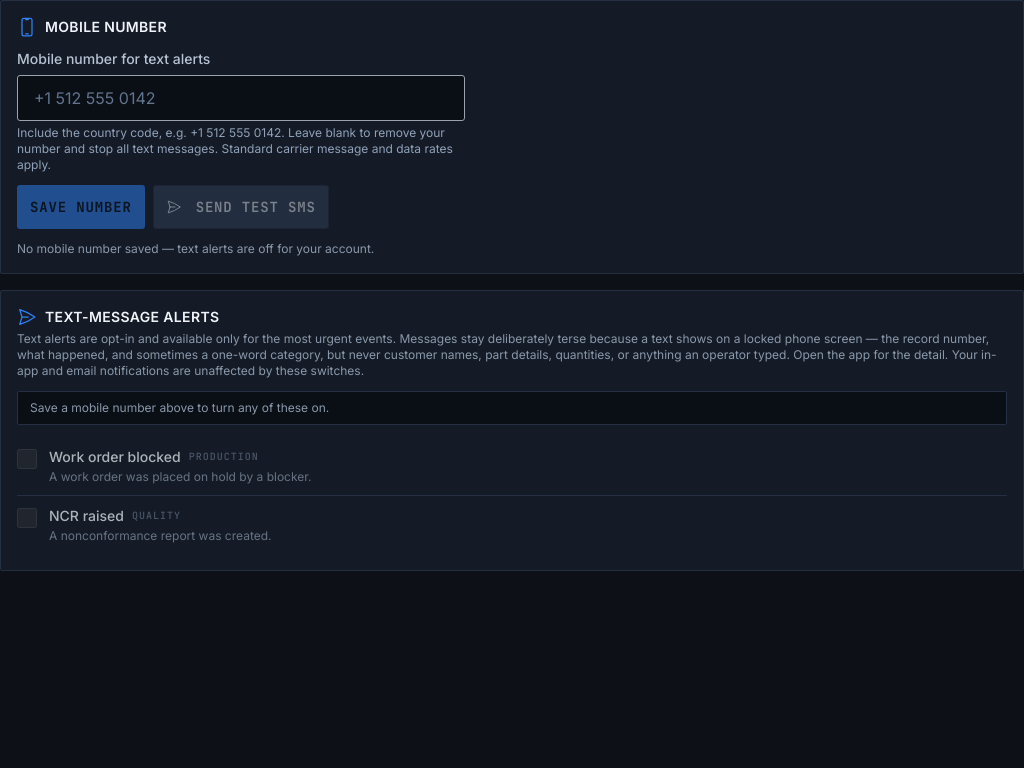
Test: SmsSettingsSection — phone number › normalizes a typed US number to E.164 before saving
The width and height of the screenshot is (1024, 768).
Expected: the text "Work order blocked production" is shown, [49, 448, 259, 465]
Type "(512) 555-0142" into the field labelled "Mobile number for text alerts" at {"x": 241, "y": 98}, box [17, 75, 465, 121]
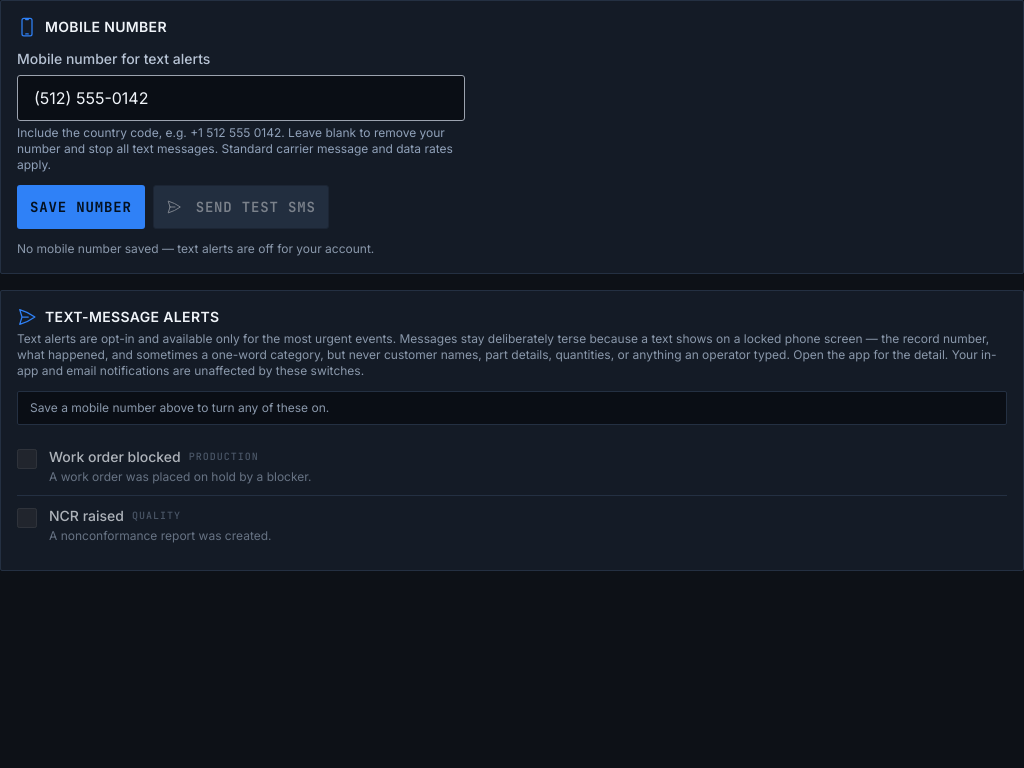
Click the button "Save number" at {"x": 81, "y": 207}, box [17, 185, 145, 229]
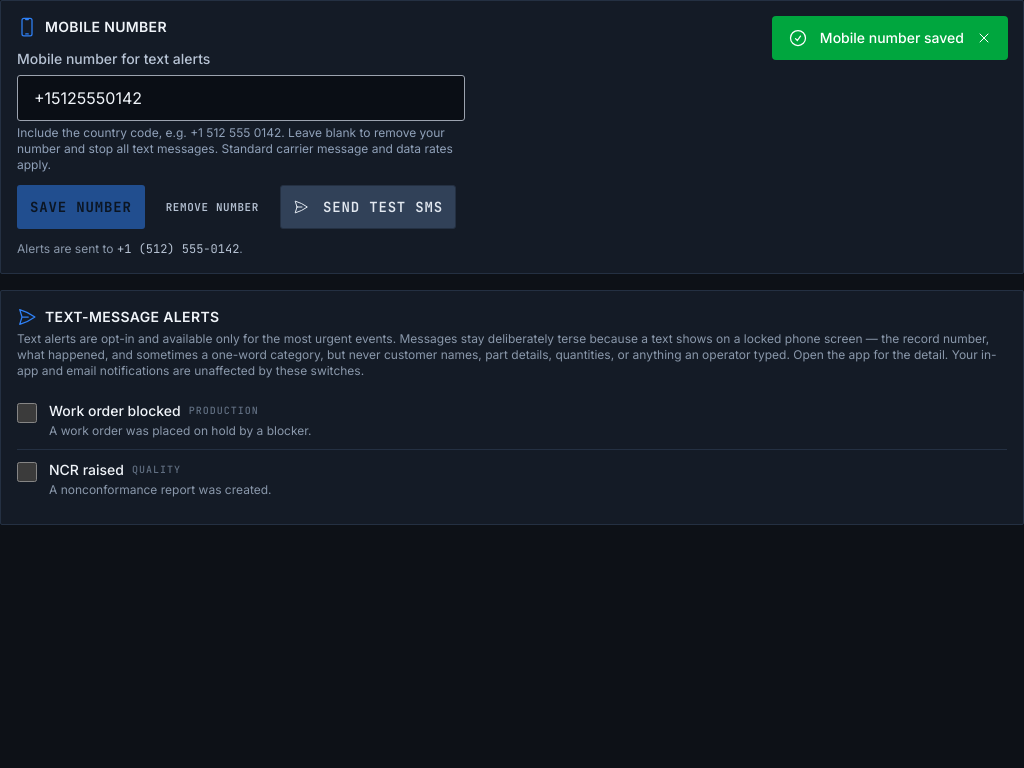
Expected: the checkbox labelled "Work order blocked" is enabled, [17, 403, 37, 423]
Expected: the text "+1 (512) 555-0142" is shown, [117, 241, 239, 257]
